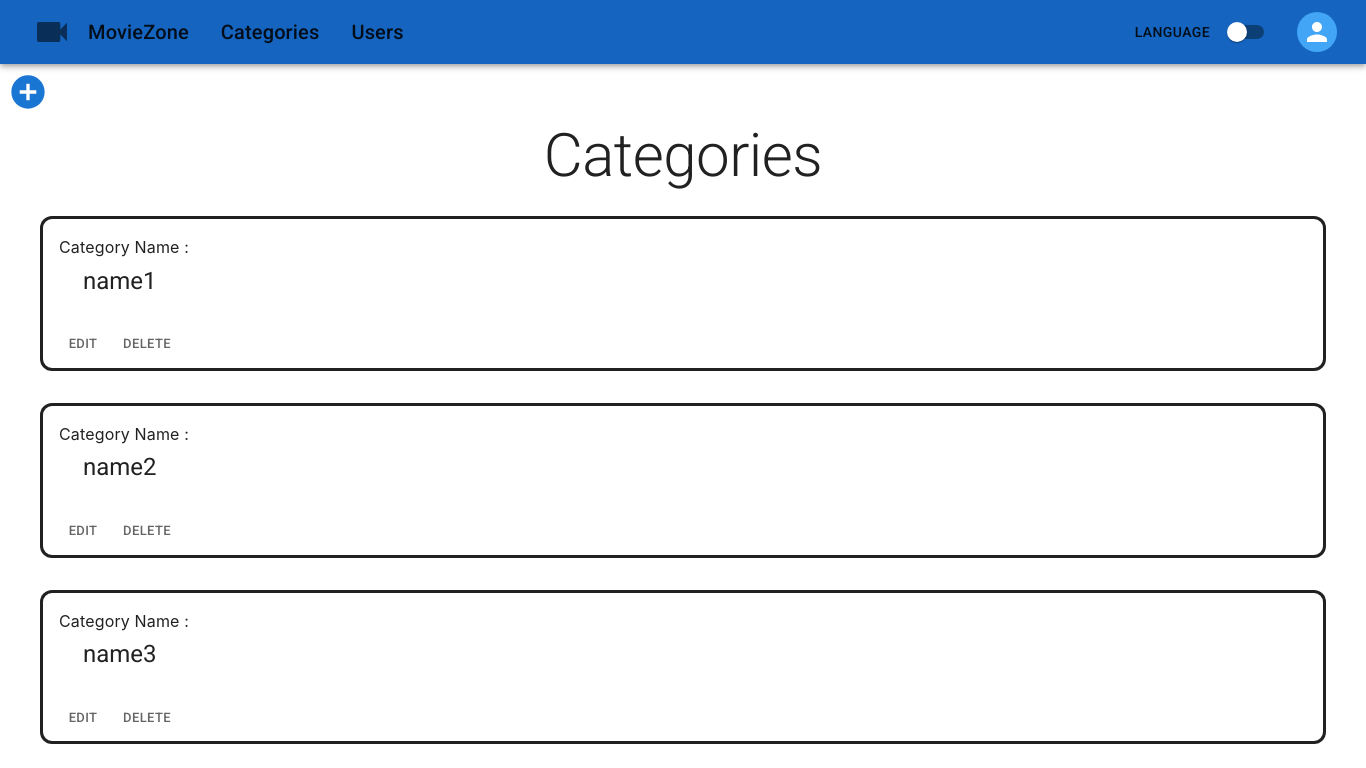
Scenario: category delete dialog opens and shows correctly
The width and height of the screenshot is (1366, 768).
Click the button "Delete" below "name1". click: (147, 344)
box: [115,329,179,360]
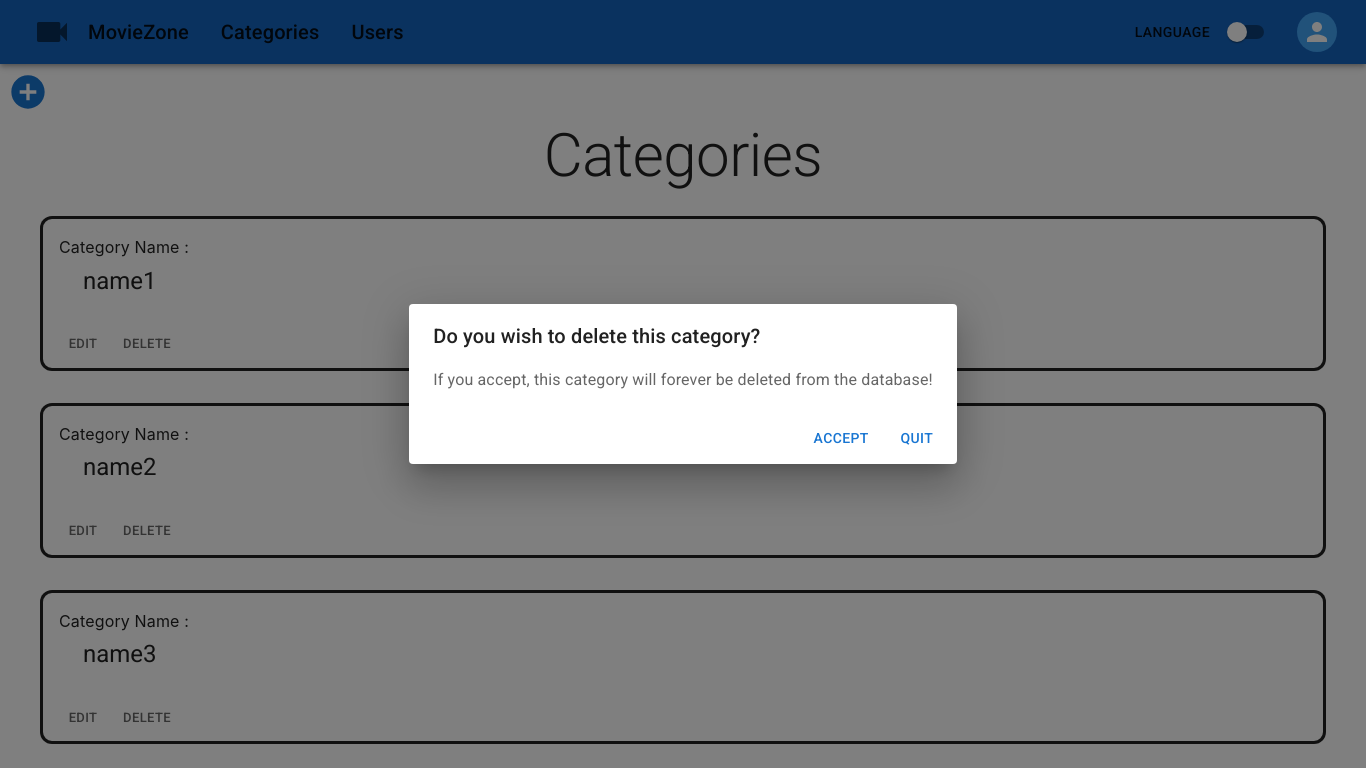
Result: the button "Accept" is shown at [806,420,877,456]
Result: the button "Quit" is shown at [885,420,949,456]
